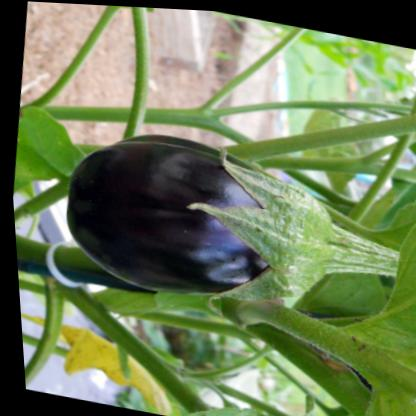eggplant: (45, 108, 416, 338)
